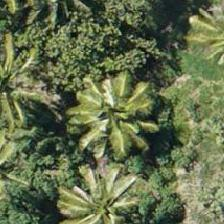coconut_tree: (65, 65, 155, 155), (59, 163, 149, 223), (0, 32, 51, 122)
